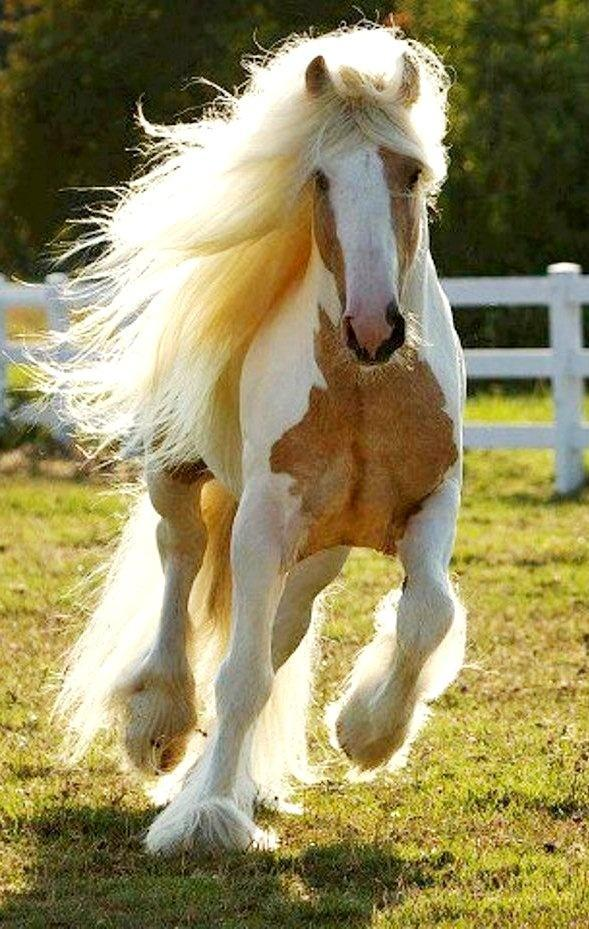horse: (0, 0, 499, 877)
